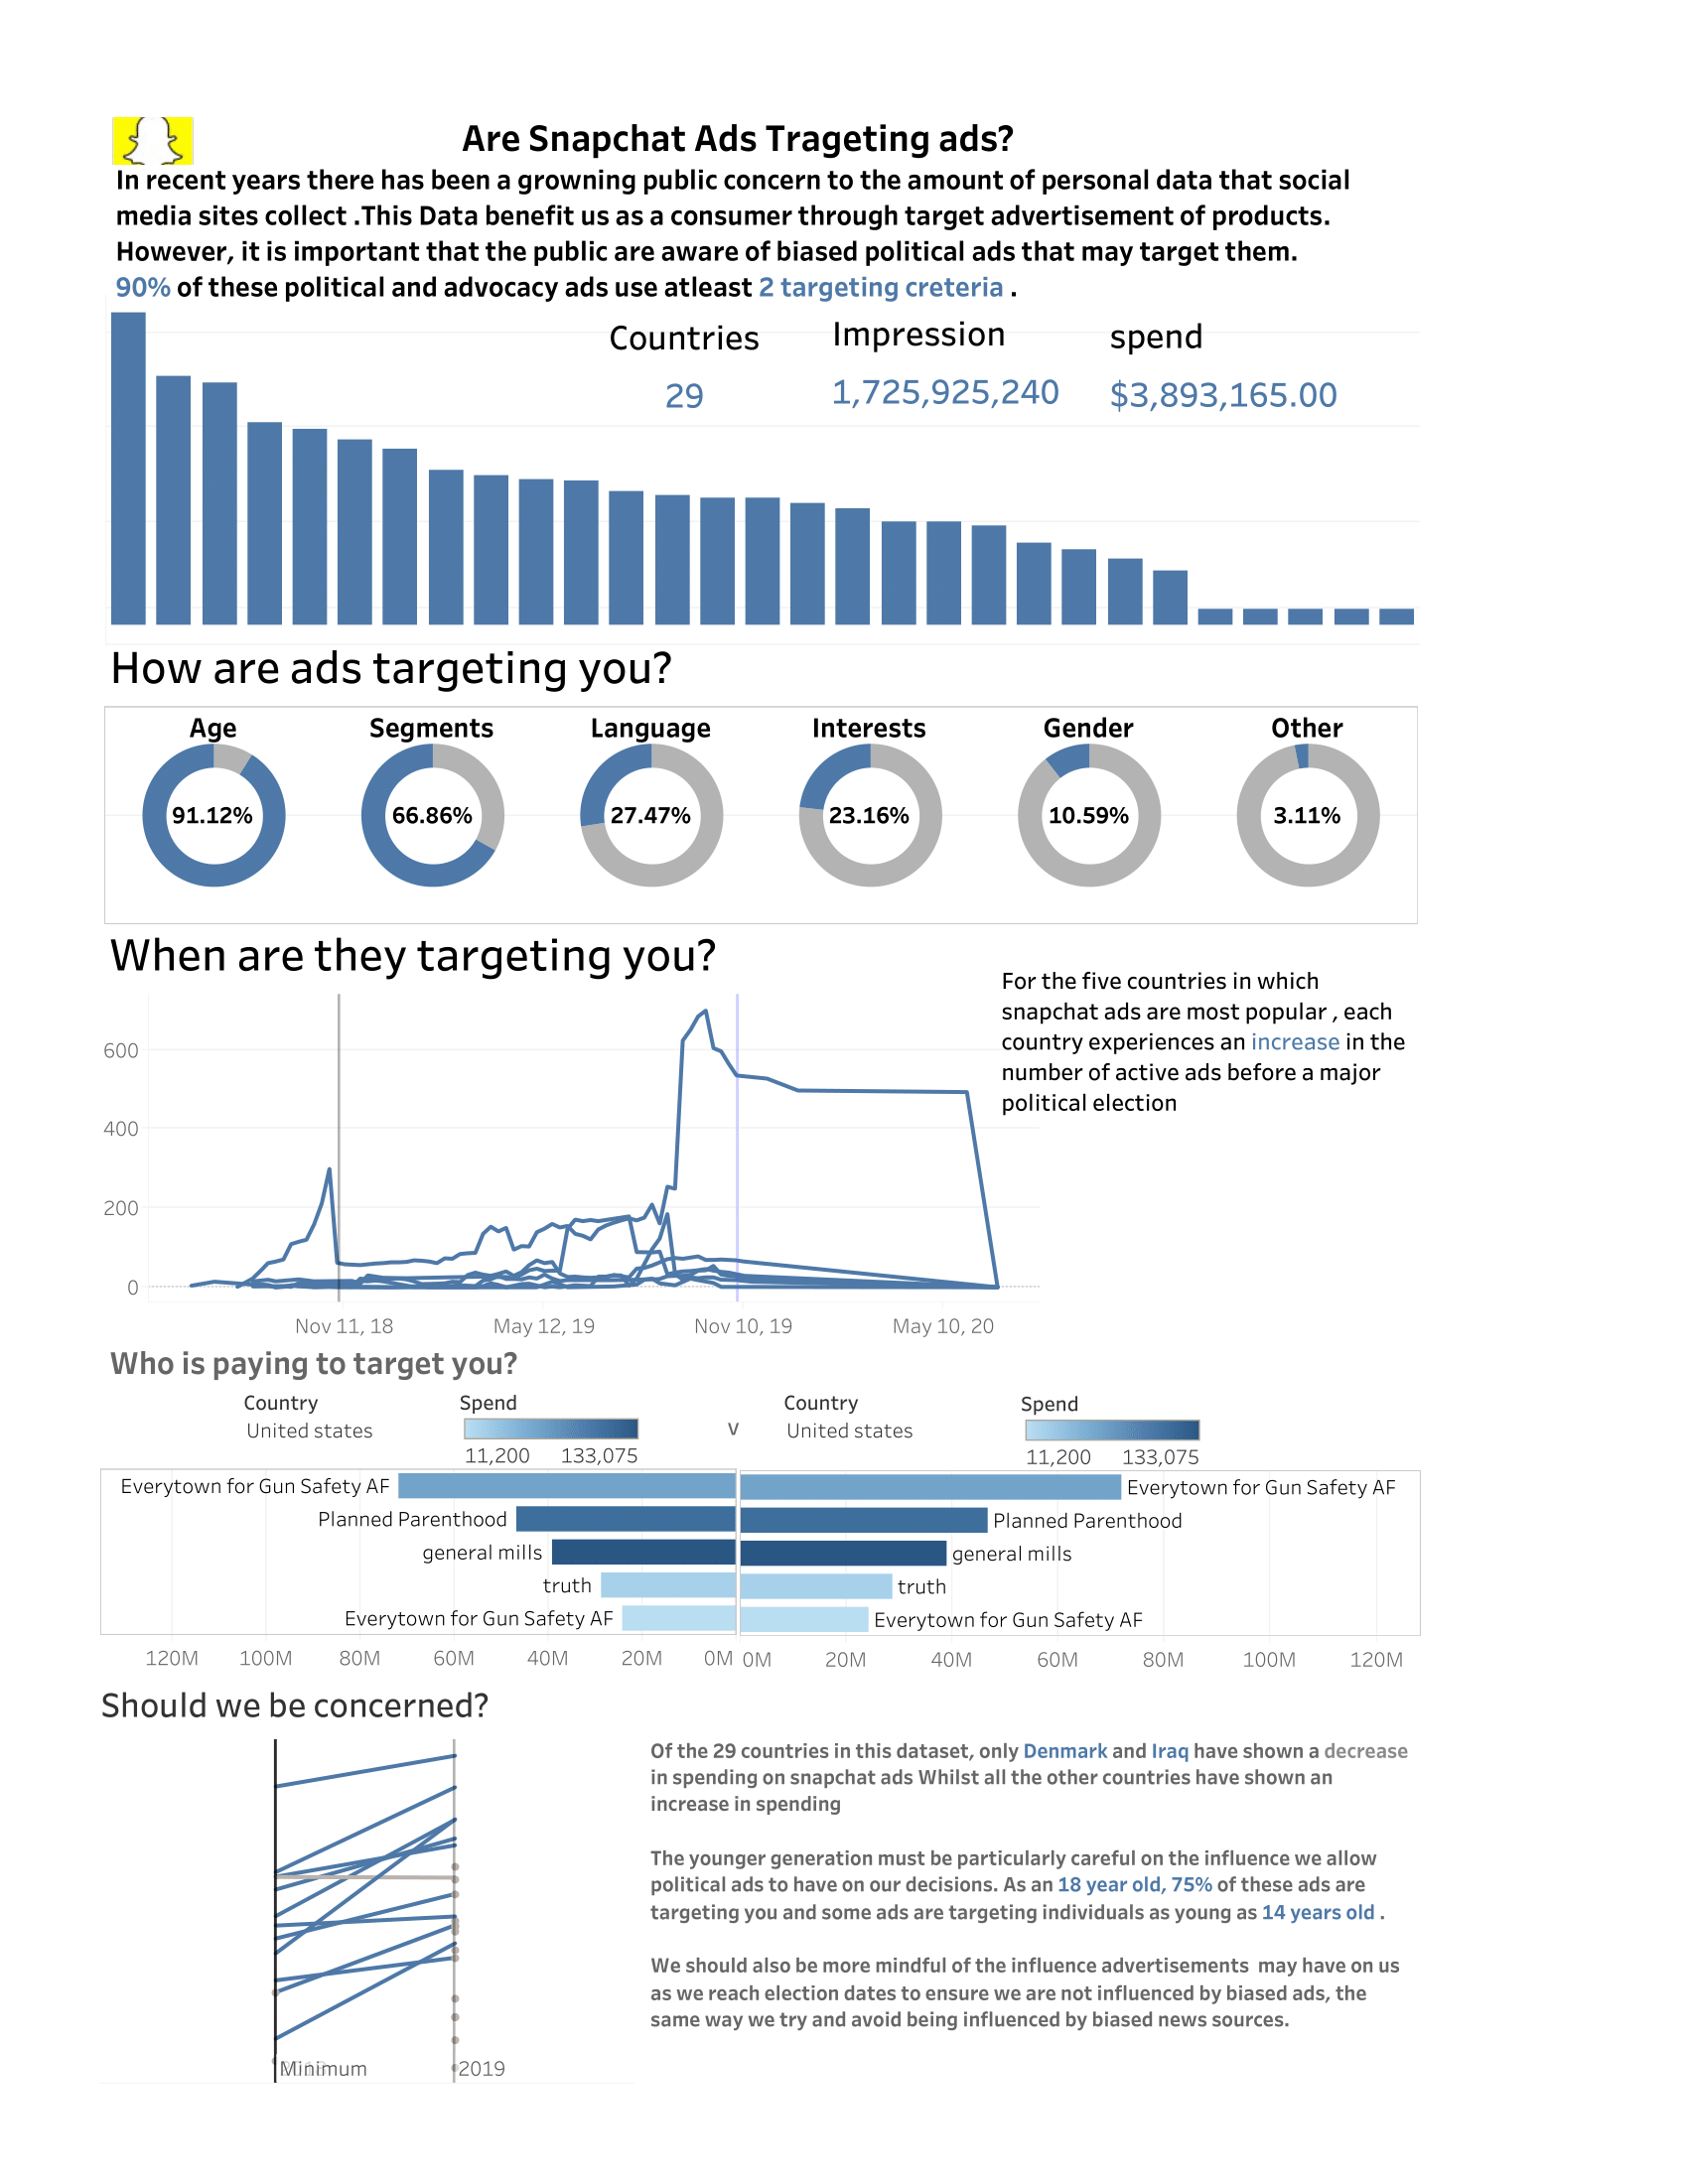

What the dashboard file says about the page in this screenshot:
{"tool":"tableau","page":{"name":"Dashboard 1","canvas":[1000,2000],"ordinal":0},"visuals":[{"type":"text","box":[8,8,984,253]},{"type":"worksheet","title":"Spend","mark":"Automatic","box":[8,261,325,113]},{"type":"worksheet","title":"Country","mark":"Automatic","box":[333,261,354,113]},{"type":"worksheet","title":"Impressions","mark":"Automatic","box":[687,261,305,113]},{"type":"worksheet","title":"No of Ads","mark":"Automatic","rows":["Calculation_31806693126303744"],"cols":["Country"],"box":[8,374,984,255]},{"type":"text","box":[8,629,984,77]},{"type":"worksheet","title":"Donut","mark":"Pie","rows":["Calculation_31806693138550786","Calculation_727612835610574852"],"cols":["Pivot Field Names"],"box":[8,706,984,203]},{"type":"text","box":[8,909,984,65]},{"type":"worksheet","title":"Time based targetting","mark":"Automatic","rows":["Calculation_375487640749629440"],"cols":["Pivot Field Values"],"box":[8,974,984,364]},{"type":"text","box":[8,1338,984,72]},{"type":"legend","title":"Bar 1 (2)","param":"[federated.1aiqska0lilqxj189gg3c1hn48h4].[sum:Spend:qk]","box":[20,1409,140,110]},{"type":"legend","title":"Bar 1 ","param":"[federated.1aiqska0lilqxj189gg3c1hn48h4].[sum:Spend:qk]","box":[843,1409,140,110]},{"type":"blank","box":[8,1410,984,76]},{"type":"text","box":[461,1414,106,72]},{"type":"filter","title":"Bar 1 ","param":"[federated.1aiqska0lilqxj189gg3c1hn48h4].[none:Country:nk]","box":[514,1416,160,67]},{"type":"filter","title":"Bar 1 (2)","param":"[federated.1aiqska0lilqxj189gg3c1hn48h4].[none:Country:nk]","box":[283,1417,160,67]},{"type":"worksheet","title":"Bar 1 (2)","mark":"Automatic","rows":["Country","Ad ID"],"cols":["Impressions"],"box":[8,1486,486.8,200]},{"type":"worksheet","title":"Bar 1 ","mark":"Automatic","rows":["Country","Ad ID"],"cols":["Impressions"],"box":[494.8,1486,497.2,200]},{"type":"text","box":[8,1686,486.8,47]},{"type":"text","box":[494.8,1686,497.2,306]},{"type":"worksheet","title":"Slope","mark":"Automatic","rows":["Spend"],"cols":["StartDate"],"box":[8,1733,486.8,259]}]}

Visuals, with their boxes on the page's 1000x2000 design canvas (x1, y1, x2, y2). These are canvas units, not pixel positions in the 1688x2184 screenshot, which may show the page scaled, cropped or inside an application window:
text: {"x1": 8, "y1": 8, "x2": 992, "y2": 261}
"Spend" worksheet: {"x1": 8, "y1": 261, "x2": 333, "y2": 374}
"Country" worksheet: {"x1": 333, "y1": 261, "x2": 687, "y2": 374}
"Impressions" worksheet: {"x1": 687, "y1": 261, "x2": 992, "y2": 374}
"No of Ads" worksheet: {"x1": 8, "y1": 374, "x2": 992, "y2": 629}
text: {"x1": 8, "y1": 629, "x2": 992, "y2": 706}
"Donut" worksheet (Pie marks): {"x1": 8, "y1": 706, "x2": 992, "y2": 909}
text: {"x1": 8, "y1": 909, "x2": 992, "y2": 974}
"Time based targetting" worksheet: {"x1": 8, "y1": 974, "x2": 992, "y2": 1338}
text: {"x1": 8, "y1": 1338, "x2": 992, "y2": 1410}
"Bar 1 (2)" legend: {"x1": 20, "y1": 1409, "x2": 160, "y2": 1519}
"Bar 1 " legend: {"x1": 843, "y1": 1409, "x2": 983, "y2": 1519}
blank: {"x1": 8, "y1": 1410, "x2": 992, "y2": 1486}
text: {"x1": 461, "y1": 1414, "x2": 567, "y2": 1486}
"Bar 1 " filter: {"x1": 514, "y1": 1416, "x2": 674, "y2": 1483}
"Bar 1 (2)" filter: {"x1": 283, "y1": 1417, "x2": 443, "y2": 1484}
"Bar 1 (2)" worksheet: {"x1": 8, "y1": 1486, "x2": 495, "y2": 1686}
"Bar 1 " worksheet: {"x1": 495, "y1": 1486, "x2": 992, "y2": 1686}
text: {"x1": 8, "y1": 1686, "x2": 495, "y2": 1733}
text: {"x1": 495, "y1": 1686, "x2": 992, "y2": 1992}
"Slope" worksheet: {"x1": 8, "y1": 1733, "x2": 495, "y2": 1992}
